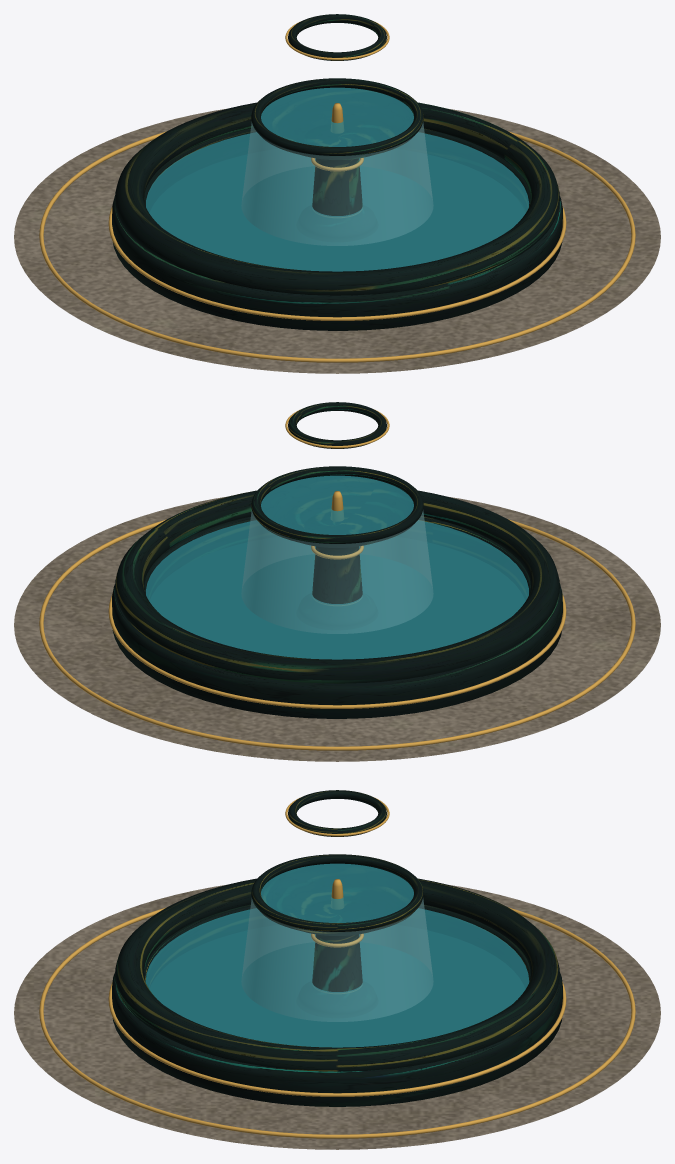
File: labradorite-fountain.glb
The picture shows the model from 3 angles, top to bottom: view 1: azimuth 30°, elevation 25°; view 2: azimuth 150°, elevation 25°; view 3: azimuth 270°, elevation 25°; orthographic projection.
Parts seen in each view (by area): view 1: fountain_lab, fountain_sand, fountain_water, fountain_floor, fountain_sheet, fountain_gold; view 2: fountain_lab, fountain_sand, fountain_water, fountain_floor, fountain_sheet, fountain_gold; view 3: fountain_lab, fountain_sand, fountain_water, fountain_floor, fountain_sheet, fountain_gold.
Part boxes in pixels (left/top/right/bottom): fountain_lab: left=112, top=14, right=562, bottom=330; fountain_sand: left=14, top=108, right=660, bottom=373; fountain_water: left=146, top=87, right=529, bottom=271; fountain_floor: left=150, top=155, right=524, bottom=270; fountain_sheet: left=241, top=122, right=433, bottom=245; fountain_gold: left=39, top=21, right=635, bottom=362; fountain_lab: left=112, top=402, right=562, bottom=718; fountain_sand: left=14, top=496, right=660, bottom=761; fountain_water: left=146, top=475, right=528, bottom=659; fountain_floor: left=150, top=543, right=524, bottom=658; fountain_sheet: left=241, top=510, right=433, bottom=633; fountain_gold: left=39, top=409, right=635, bottom=750; fountain_lab: left=112, top=790, right=562, bottom=1106; fountain_sand: left=14, top=884, right=660, bottom=1149; fountain_water: left=145, top=863, right=529, bottom=1047; fountain_floor: left=150, top=931, right=524, bottom=1046; fountain_sheet: left=241, top=898, right=433, bottom=1021; fountain_gold: left=39, top=797, right=635, bottom=1138.
Size of the model in its own units: 6.6 by 2.3 by 6.6.
6 materials, 2 textured.
